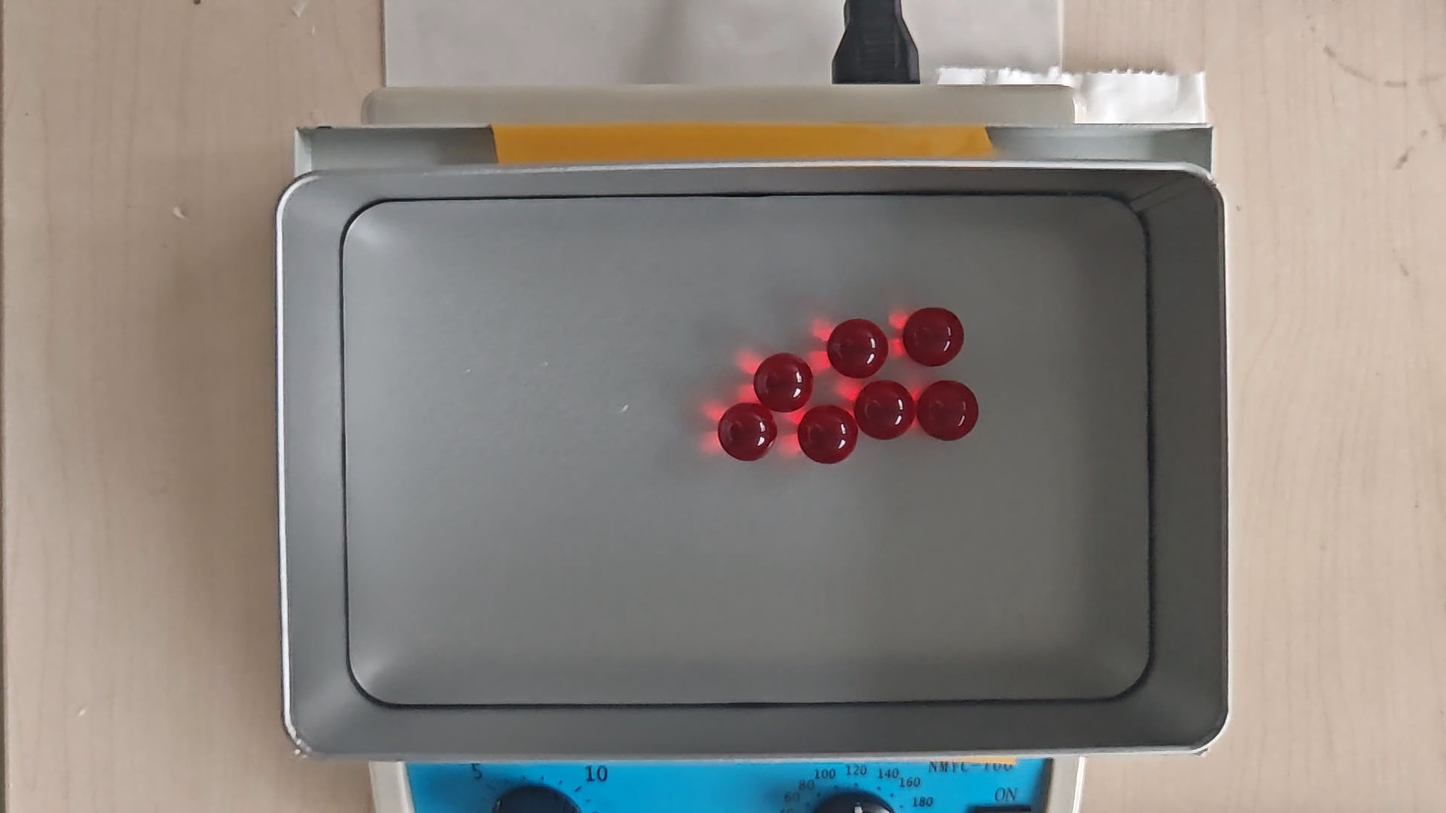ball: (754, 353, 815, 415), (919, 379, 978, 442), (855, 380, 914, 441), (904, 306, 962, 367), (828, 318, 886, 378), (801, 406, 856, 466), (719, 403, 776, 460)
container: (338, 196, 1152, 704)
